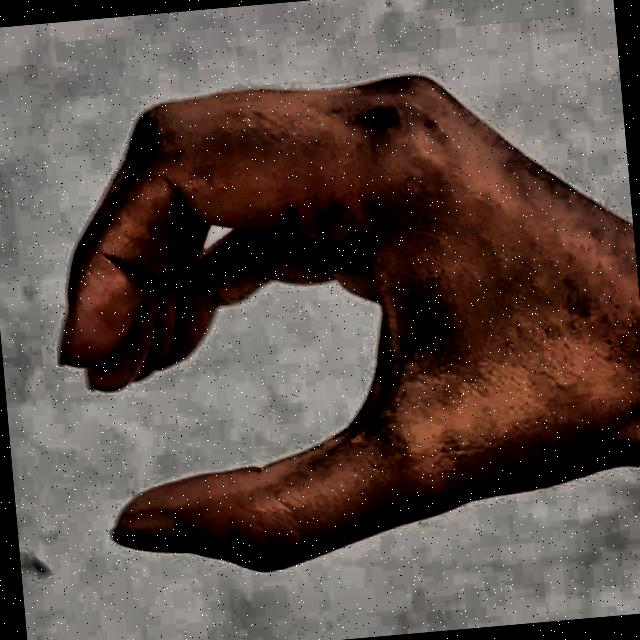Ka: (18, 21, 640, 618)
